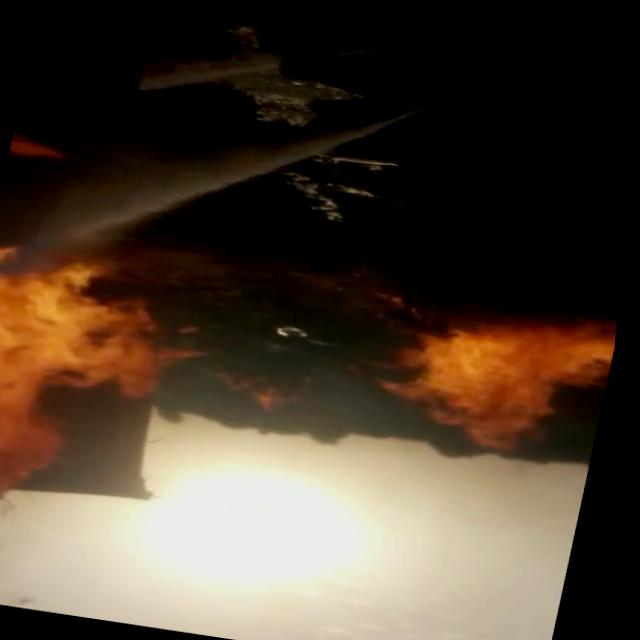Fire: (0, 244, 209, 623), (372, 287, 623, 464)
